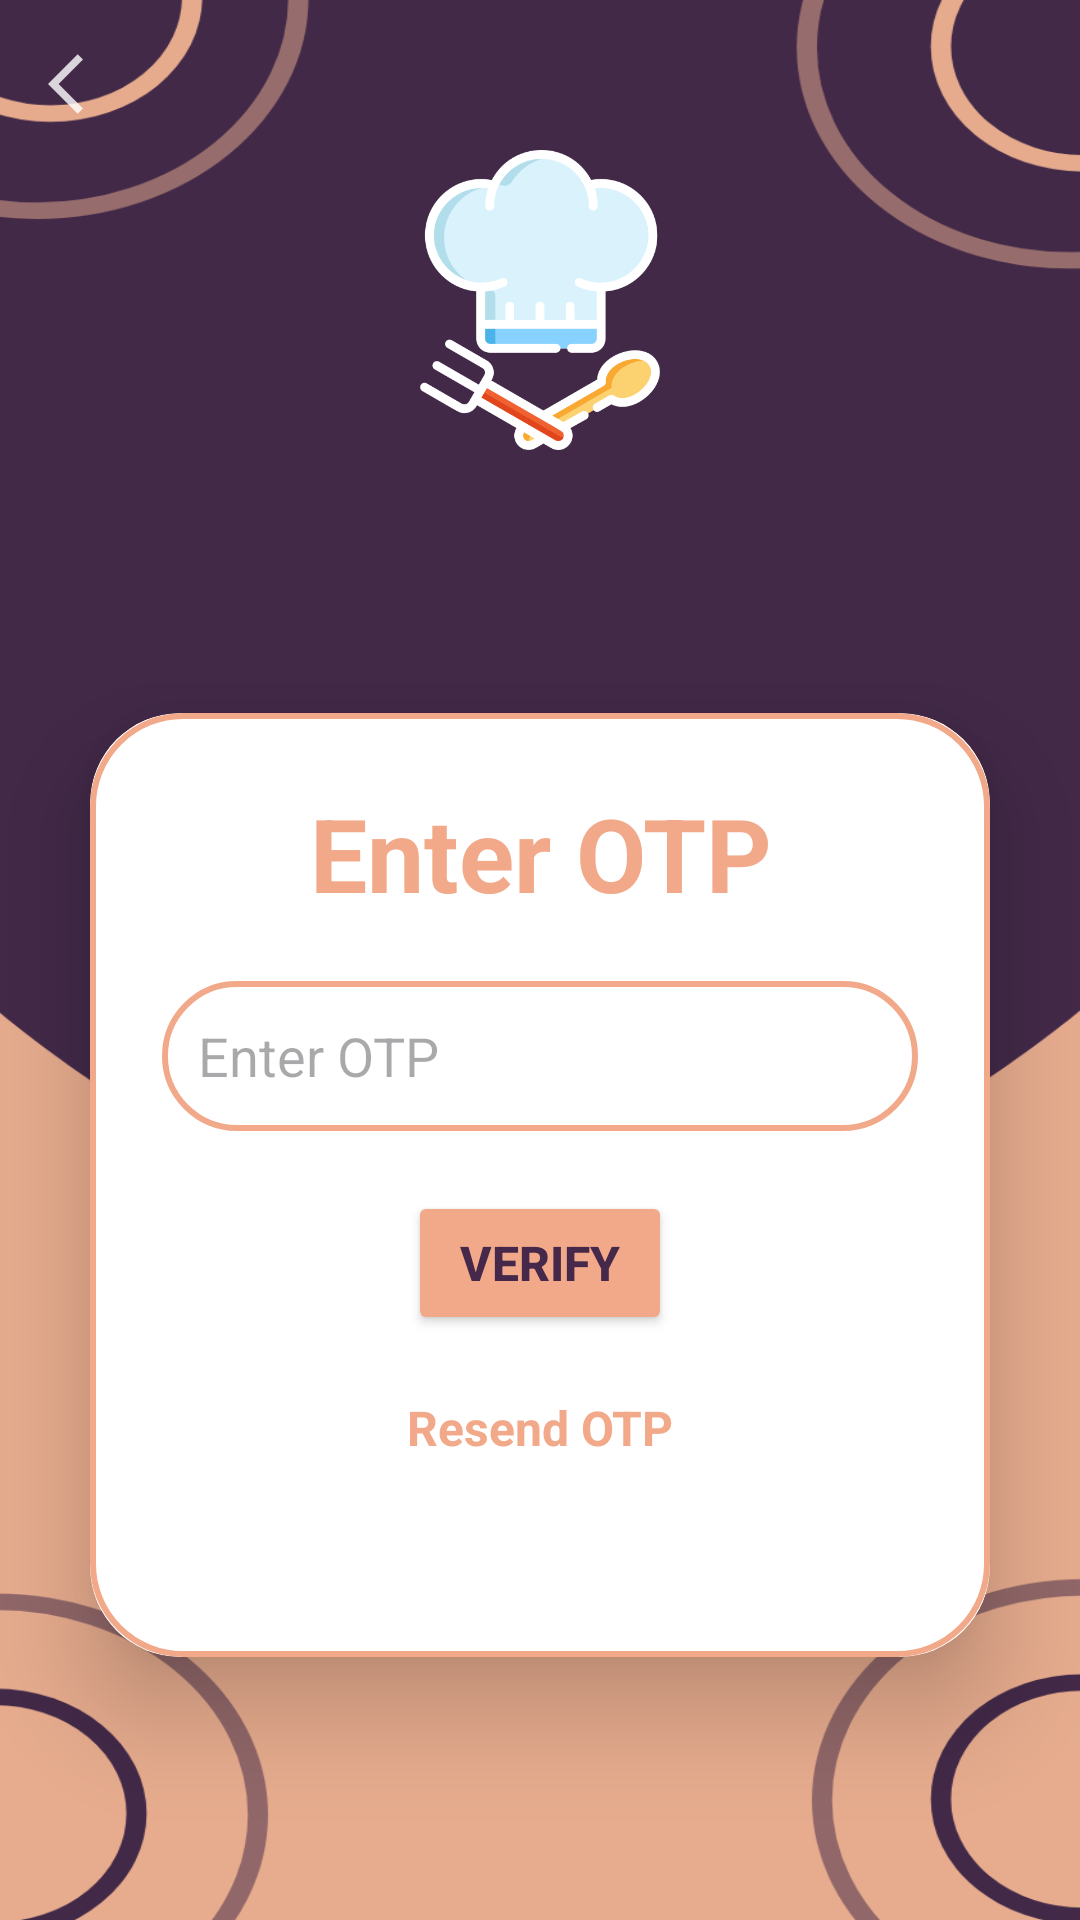

Named icons in this screenshot (1080x1920) and their centers, (x,y):
arrow back: (84,87)
chef: (540,300)
